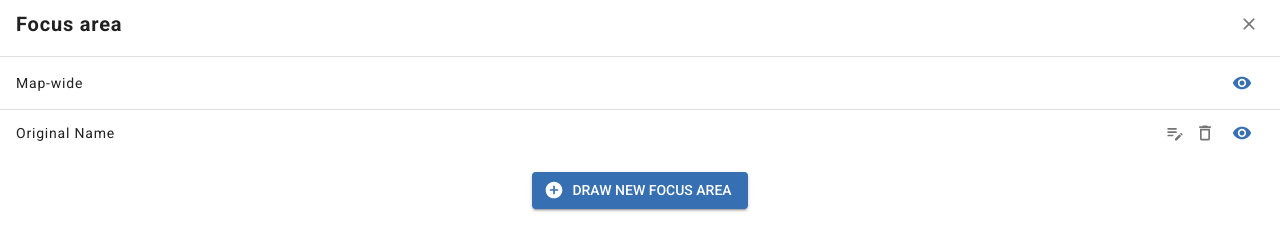
Test case: FocusAreaView › Focus Area Actions › enters edit mode when edit button is clicked
Expected: the text "Original Name" is shown, [16, 125, 115, 141]
Click the button named "Edit focus area name". click: {"x": 1175, "y": 133}
box: [1160, 118, 1190, 148]
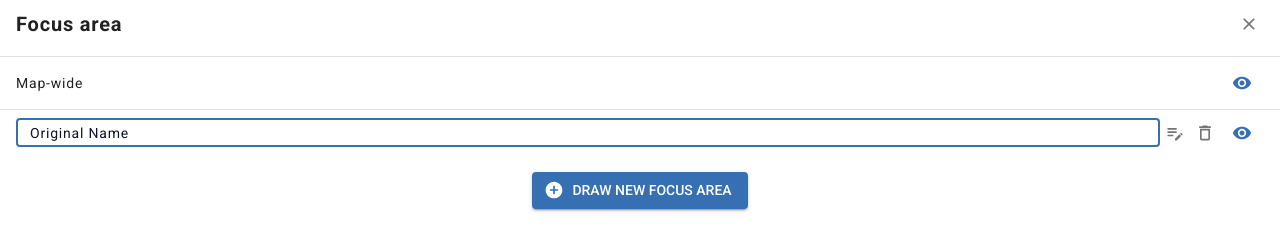
Expected: the field showing "Original Name" is shown, [16, 119, 1160, 147]
